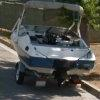Boat: (7, 0, 95, 81)
